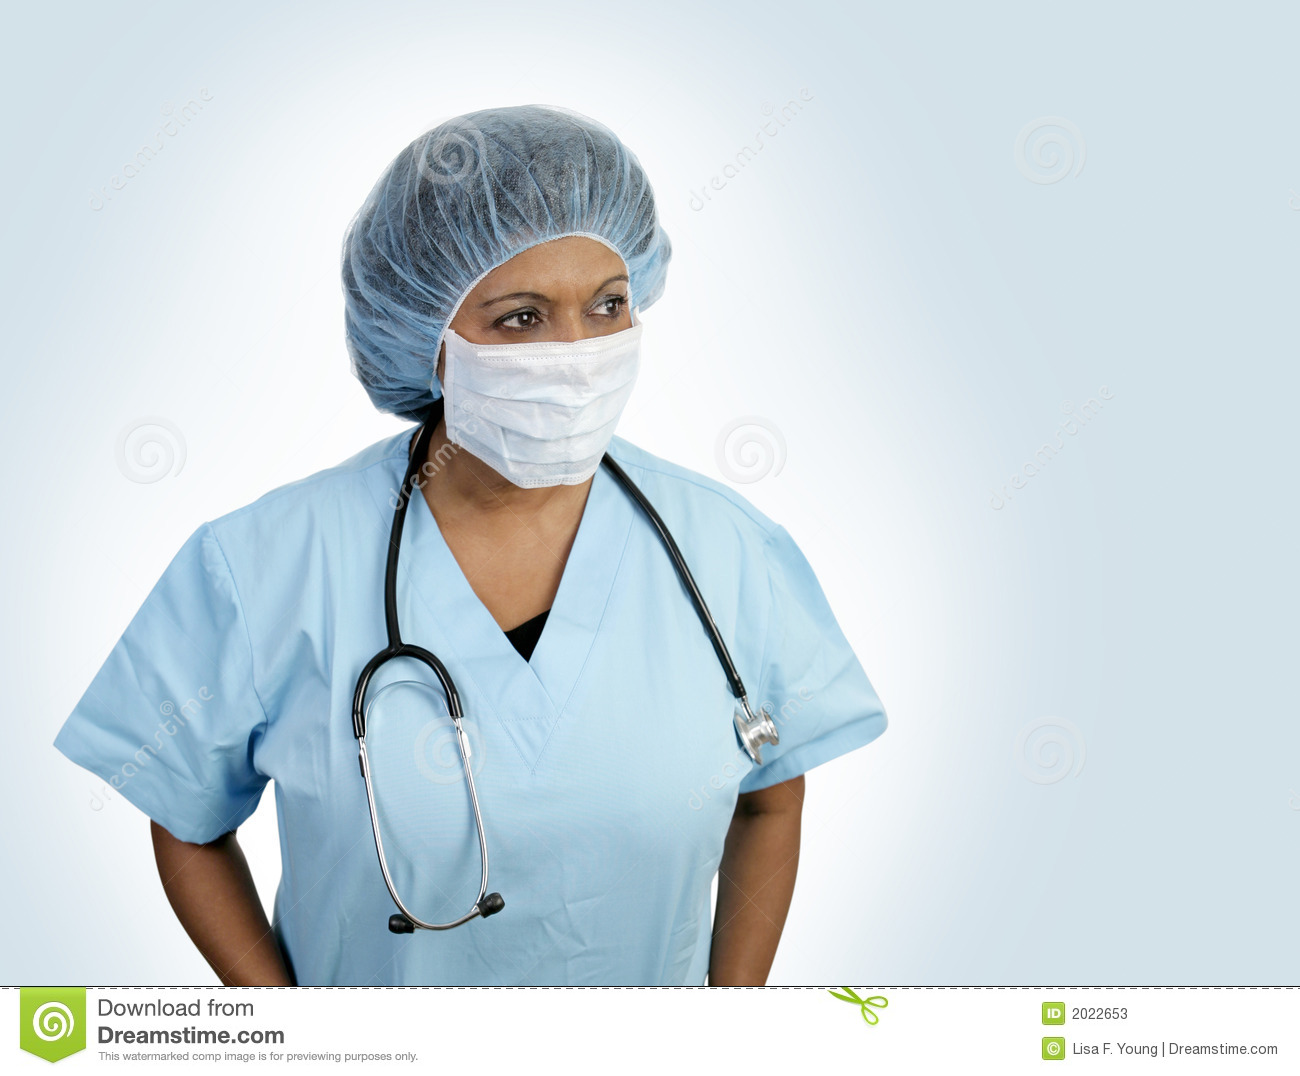mask: (437, 327, 642, 481)
